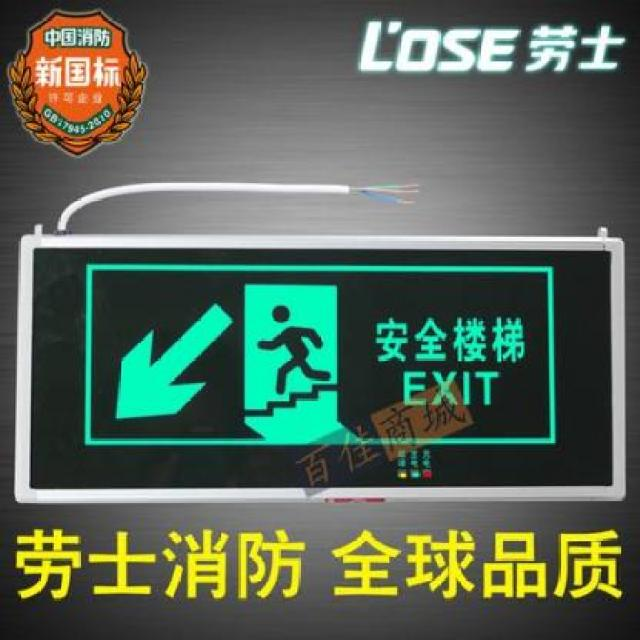exit_sign: (11, 226, 632, 508)
